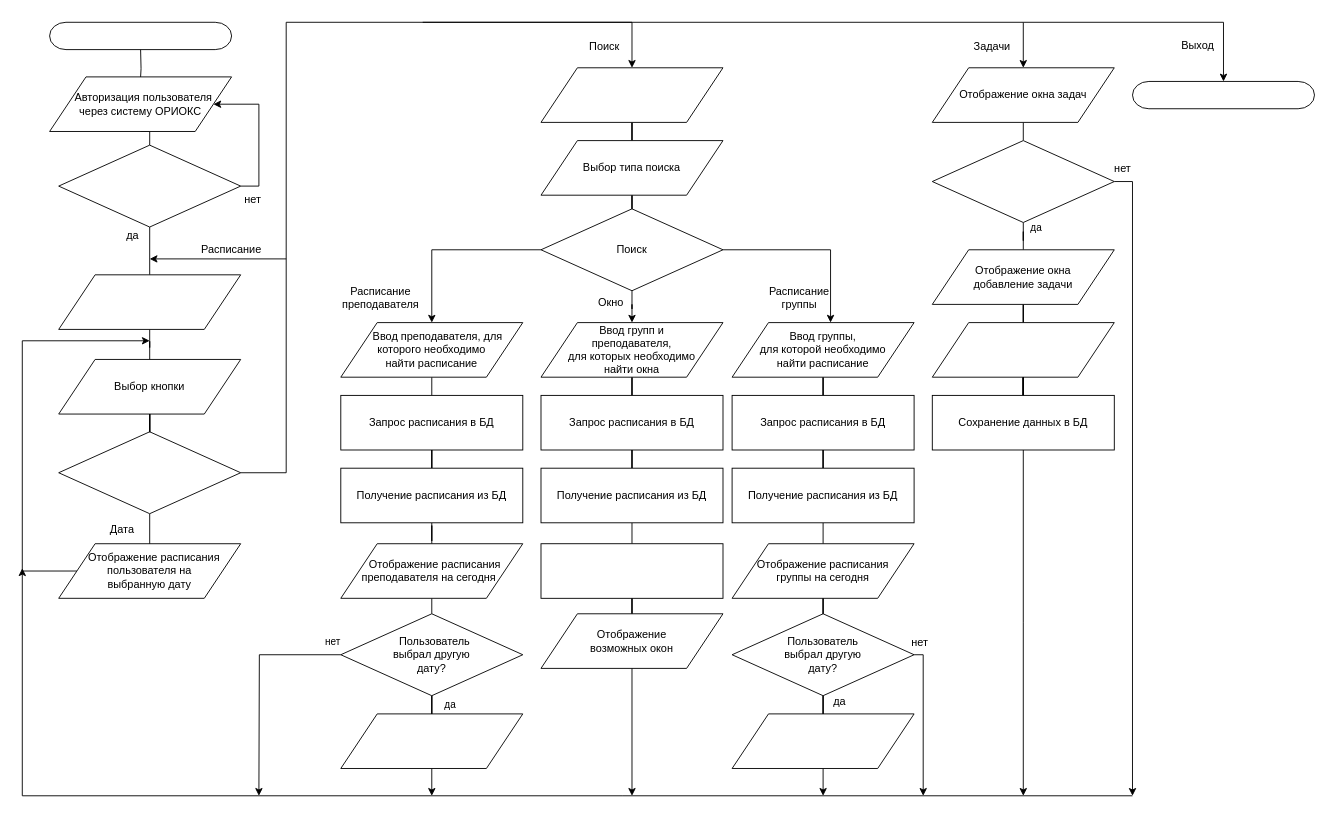
Image size: 1330x819. Some labels were removed from this diagram. Here are the shapes that lost their labels. From the top down, the centre of each, then its label:
(x=140, y=35): Начало
(x=631, y=94): Отображение окна для поиска расписания другой группы
(x=1223, y=95): Конец
(x=149, y=185): Авторизация прошла успешно?
(x=1022, y=181): Пользователь нажал кнопку "Добавить задачу"?
(x=149, y=301): Отображение расписания пользователя на сегодня
(x=1022, y=349): Ввод названия и даты задачи
(x=149, y=472): Кнопка
(x=631, y=570): Вычисление окон
(x=431, y=740): Отображение расписания преподавателя на выбранную дату
(x=822, y=740): Отображение расписания группы на выбранную дату
